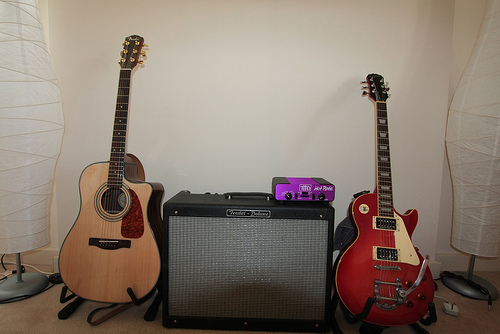guitar: (59, 33, 165, 304)
